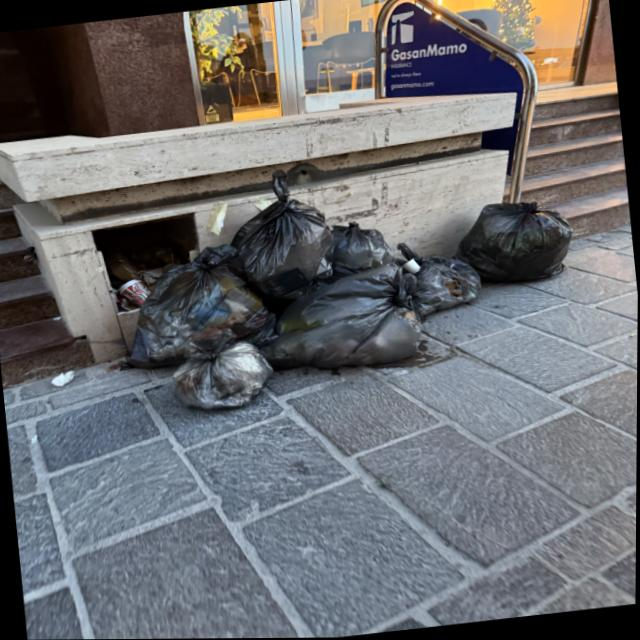Mixed Waste -Black Bags-: (120, 170, 572, 409)
